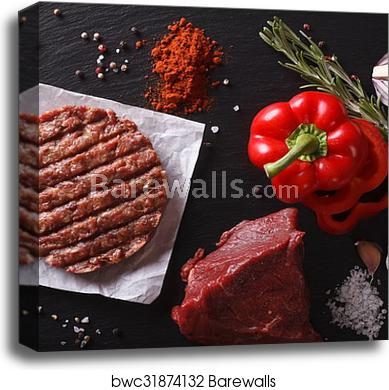ground_beef: (43, 104, 164, 268)
